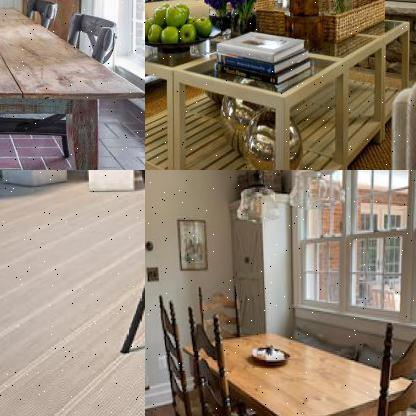table: (145, 0, 415, 169), (0, 0, 144, 169), (177, 329, 415, 415), (59, 170, 144, 374)
